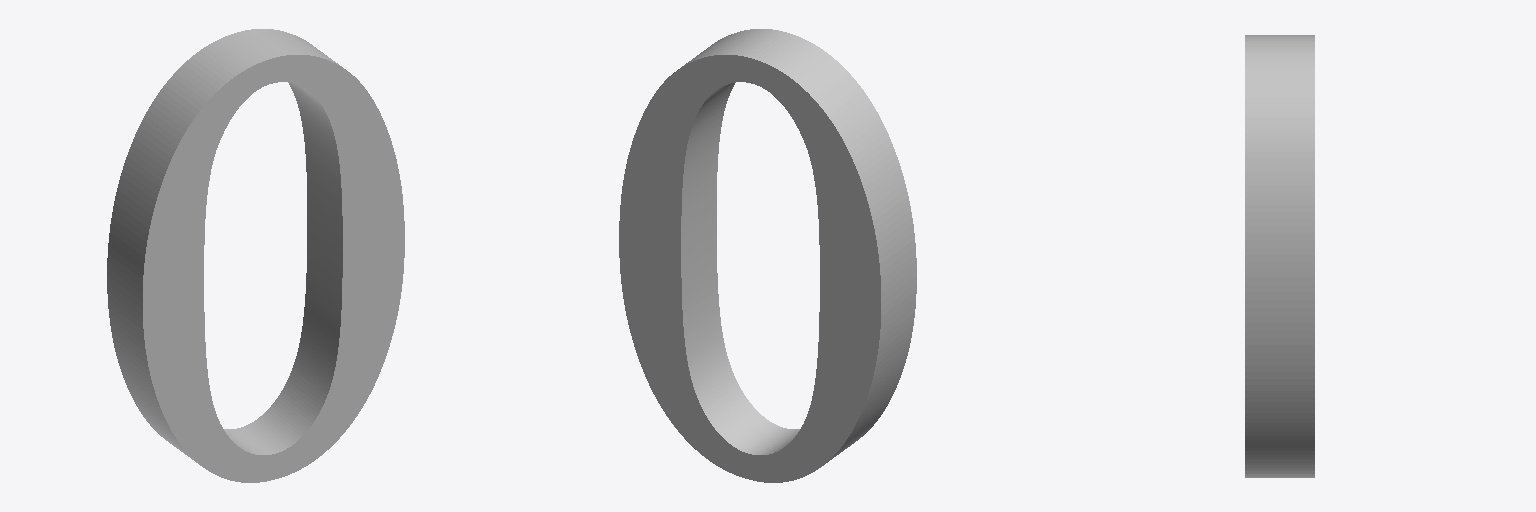
The model's file is number0.obj.
3 renders of one model, left to right at view 1: azimuth 30°, elevation 25°; view 2: azimuth 150°, elevation 25°; view 3: azimuth 270°, elevation 25°, orthographic.
Visible parts, largest first — view 1: Text; view 2: Text; view 3: Text.
Part boxes in pixels (x1,y1,x2,y2): Text: (107,29,404,482); Text: (619,29,916,482); Text: (1245,35,1314,477).
Size of the model in its own units: 0.6842 by 1.05 by 0.1602.